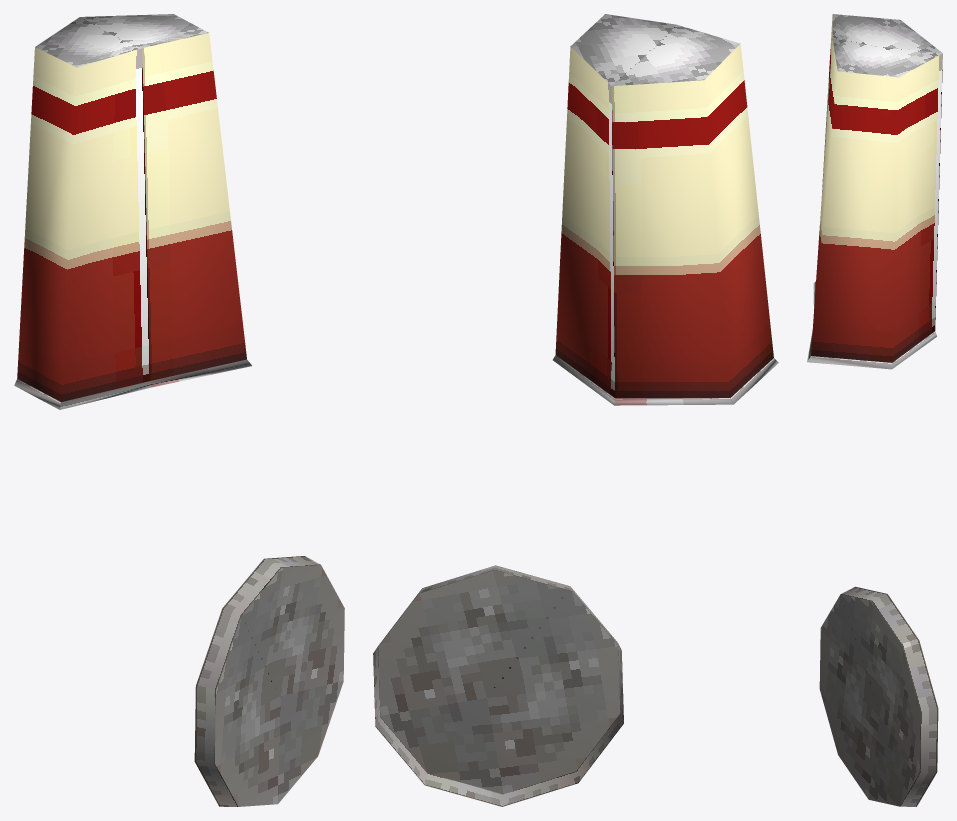
Rendered from ma_cup_single_spilled_LOD1.obj.
The picture shows the model from 3 angles, left to right: view 1: azimuth 30°, elevation 25°; view 2: azimuth 150°, elevation 25°; view 3: azimuth 270°, elevation 25°; orthographic projection. The views are drawn at different scales.
Visible parts, largest first — view 1: mtl_cups; view 2: mtl_cups; view 3: mtl_cups.
Boxes of the visible parts, bbox=[...] form: mtl_cups: bbox=[14, 14, 344, 806]; mtl_cups: bbox=[373, 14, 778, 806]; mtl_cups: bbox=[807, 14, 942, 806].
Bounding box in the file's own units: 15.35 × 34.37 × 6.06.
